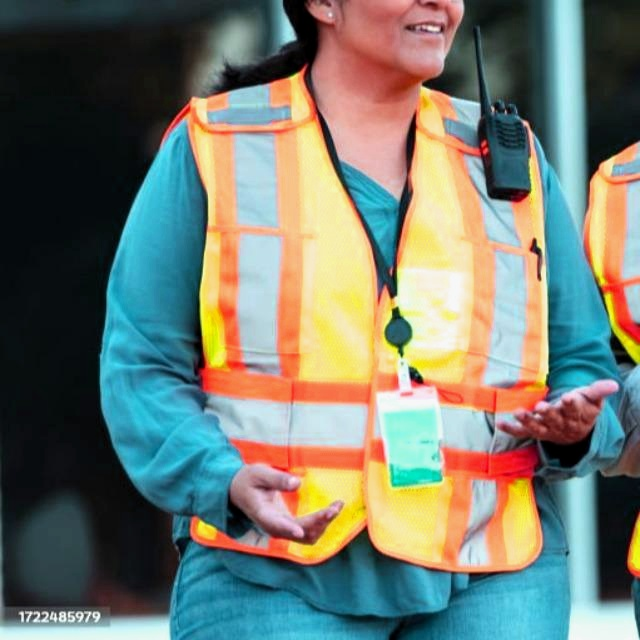Con_Chaleco: (167, 80, 558, 573)
